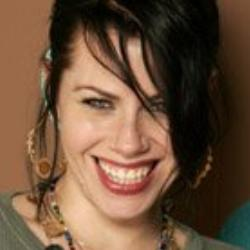face: (29, 1, 228, 227)
